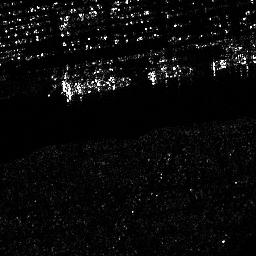ship: (60, 76, 132, 96), (209, 51, 256, 71), (148, 63, 192, 82)
